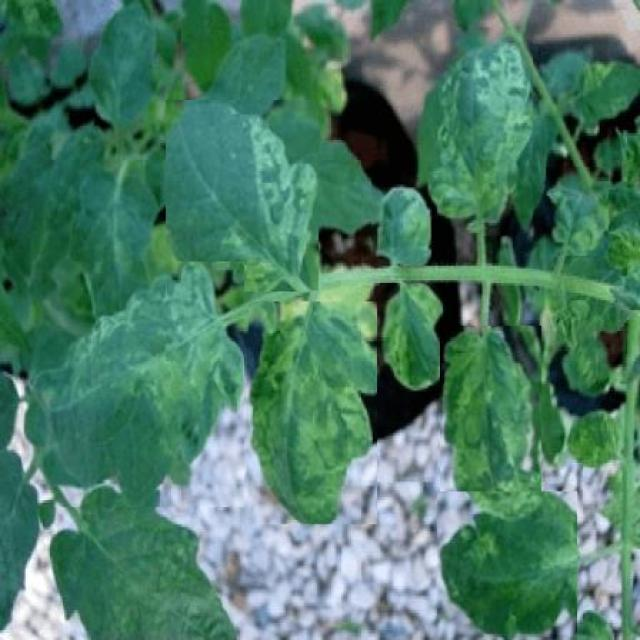Mosaic Virus: (22, 262, 245, 507), (165, 100, 318, 291), (249, 302, 377, 525), (414, 28, 533, 236), (437, 491, 577, 640), (440, 326, 541, 524), (380, 282, 446, 392), (545, 167, 609, 256), (372, 177, 431, 266)
